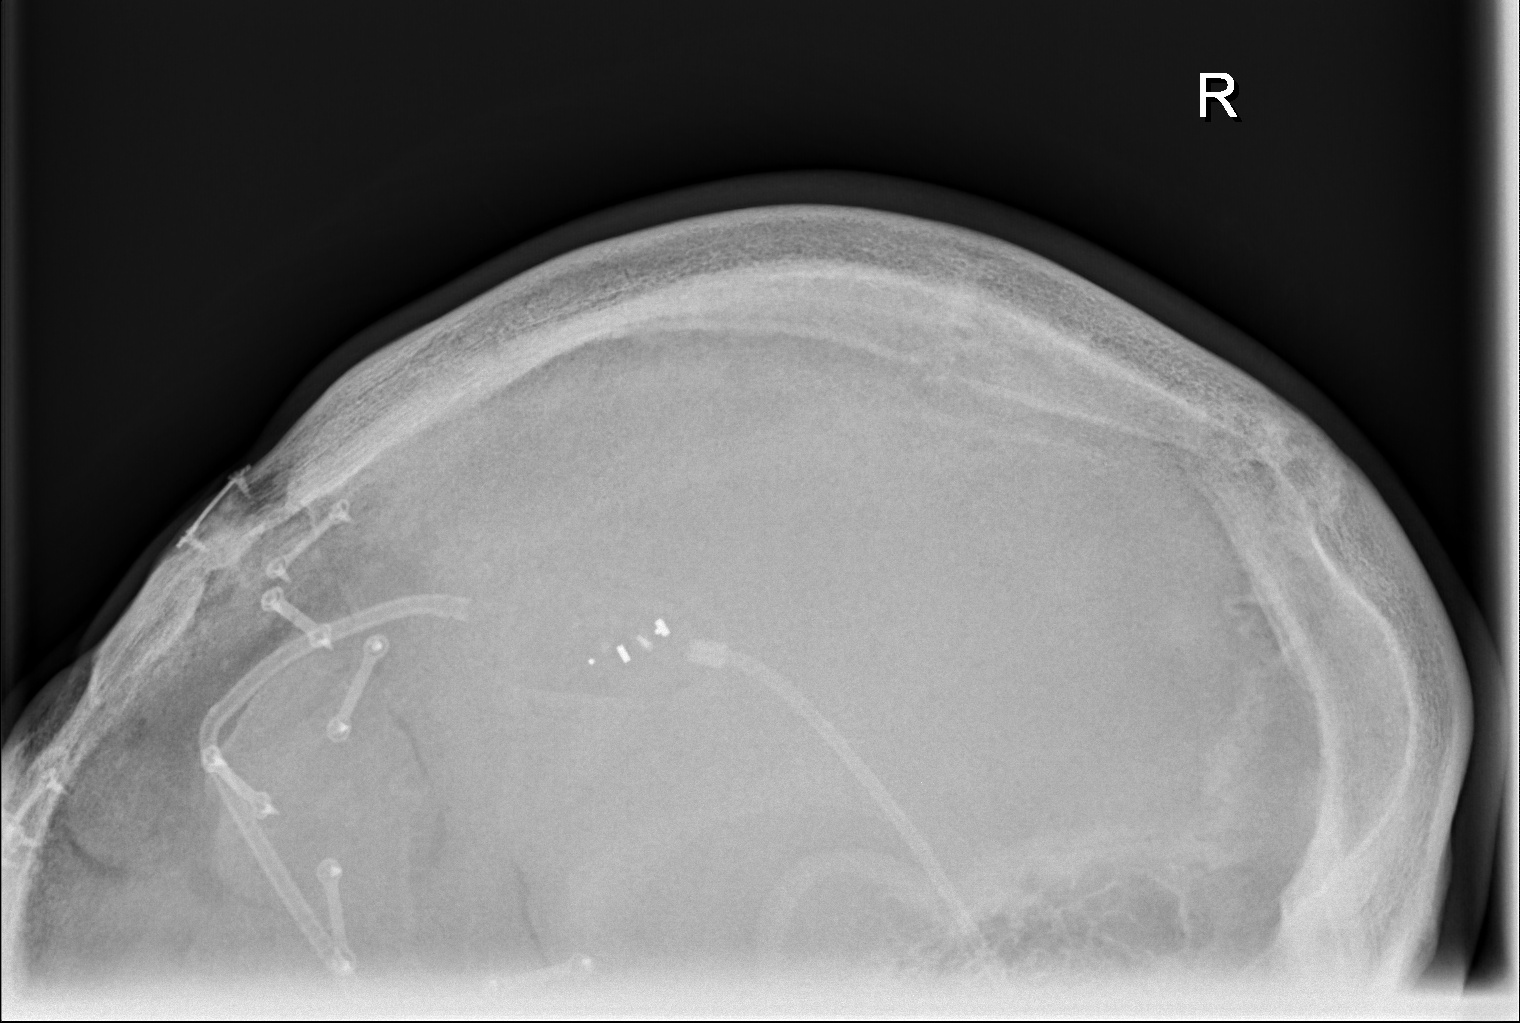Codman Certas: (573, 593, 690, 700)
